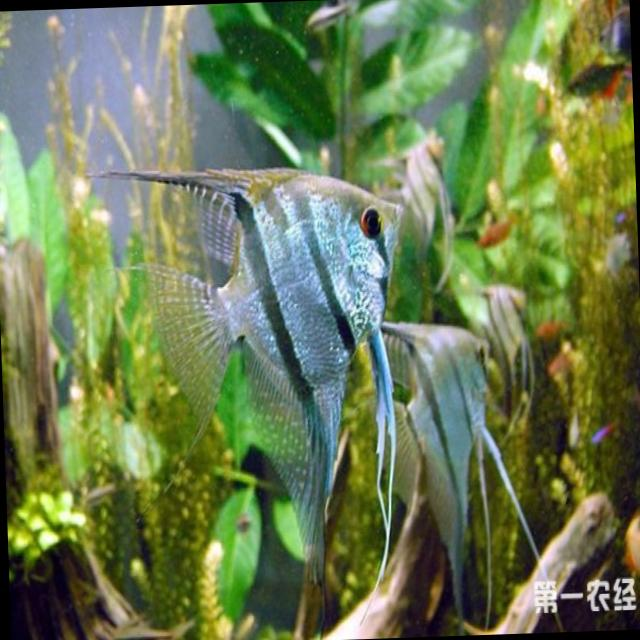AngelFish: (88, 155, 420, 626), (379, 300, 500, 634), (394, 129, 460, 288), (484, 275, 546, 411)
